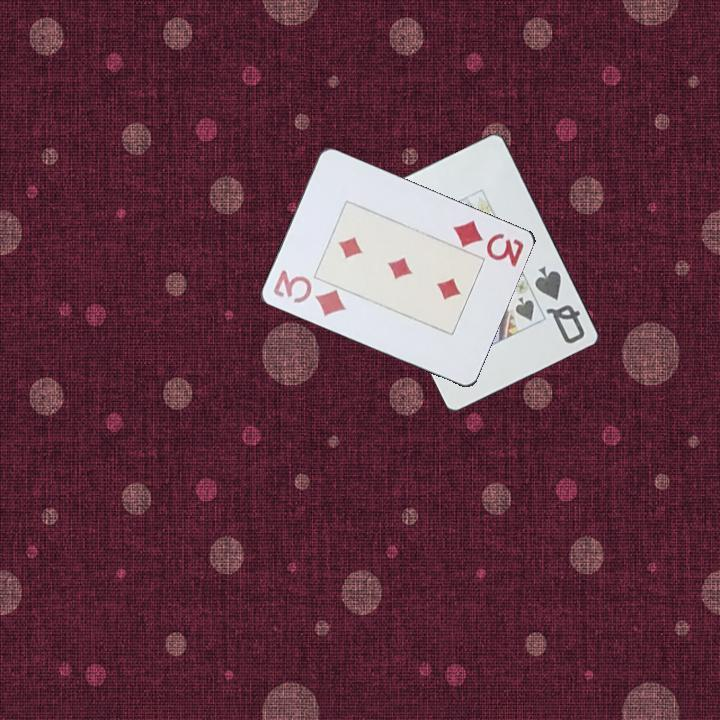3d: (270, 266, 350, 320), (450, 216, 527, 270)
Qs: (531, 263, 588, 347)
